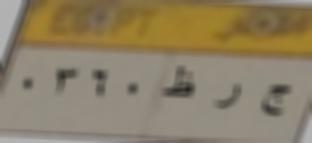0: (122, 77, 147, 103), (19, 71, 37, 98)
3: (50, 62, 81, 95)
6: (86, 63, 113, 101)
Thaa: (162, 61, 197, 105)
jeem: (259, 80, 291, 124)
raa: (213, 78, 245, 115)
